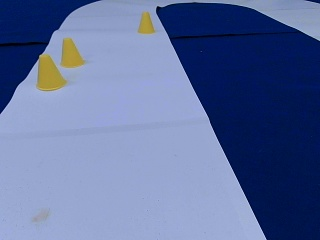cone: (35, 55, 66, 90), (59, 38, 83, 67), (138, 12, 154, 33)
